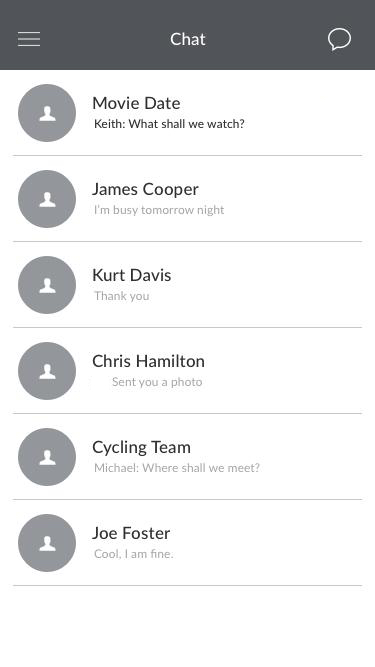Icon: (18, 84, 77, 143), (18, 428, 77, 487), (19, 514, 78, 572), (19, 342, 77, 400), (18, 171, 77, 228), (19, 257, 78, 314), (327, 28, 352, 52), (18, 32, 42, 48)
Text: (95, 462, 263, 473), (92, 182, 200, 199), (95, 118, 246, 130), (95, 204, 225, 217), (93, 440, 191, 457), (93, 354, 206, 368), (93, 97, 181, 111), (93, 268, 173, 283), (92, 526, 171, 540), (113, 377, 205, 389), (95, 548, 174, 559), (95, 291, 151, 303), (170, 33, 207, 47)
Toolbar: (1, 1, 375, 71)
